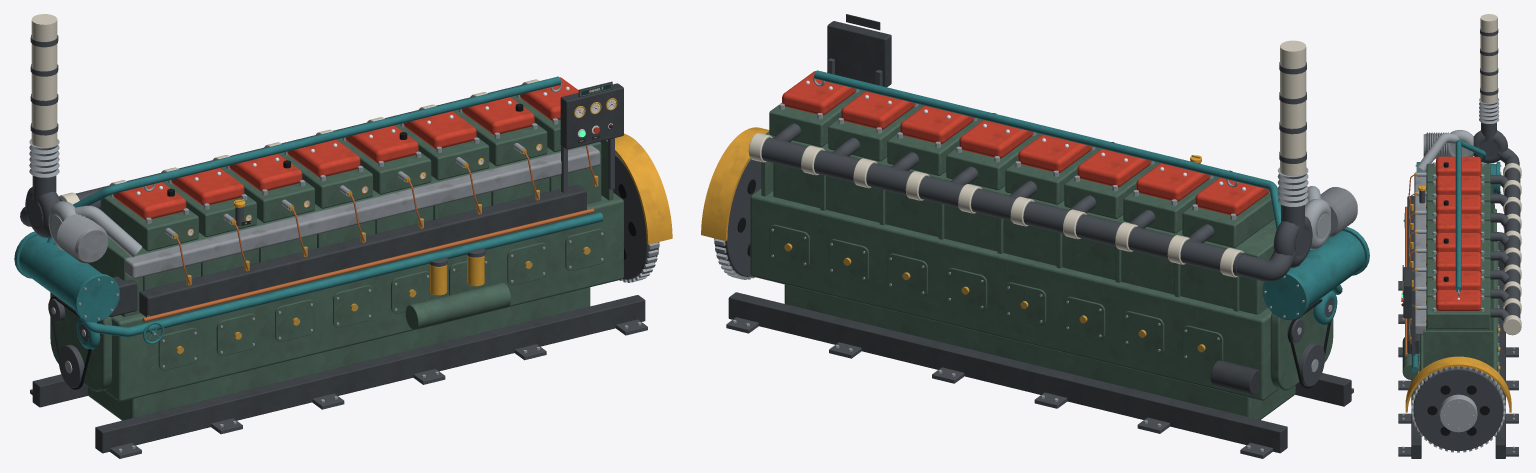
The model's file is DieselEngineP.glb.
The picture shows the model from 3 angles, left to right: view 1: azimuth 30°, elevation 25°; view 2: azimuth 150°, elevation 25°; view 3: azimuth 270°, elevation 25°; orthographic projection. The views are drawn at different scales.
Visible parts, largest first — view 1: DieselEngineP_Body, DieselEngineP_Flywheel; view 2: DieselEngineP_Body, DieselEngineP_Flywheel; view 3: DieselEngineP_Body, DieselEngineP_Flywheel.
Part boxes in pixels (box(x1,y1,x2,y2)): DieselEngineP_Body: box(14, 14, 672, 458); DieselEngineP_Flywheel: box(613, 153, 659, 282); DieselEngineP_Body: box(701, 14, 1369, 458); DieselEngineP_Flywheel: box(714, 159, 761, 279); DieselEngineP_Body: box(1398, 14, 1521, 458); DieselEngineP_Flywheel: box(1411, 366, 1505, 452).
Size of the model in its own units: 6.4 by 4 by 1.7.
Materials: 26 (16 with a texture image).
